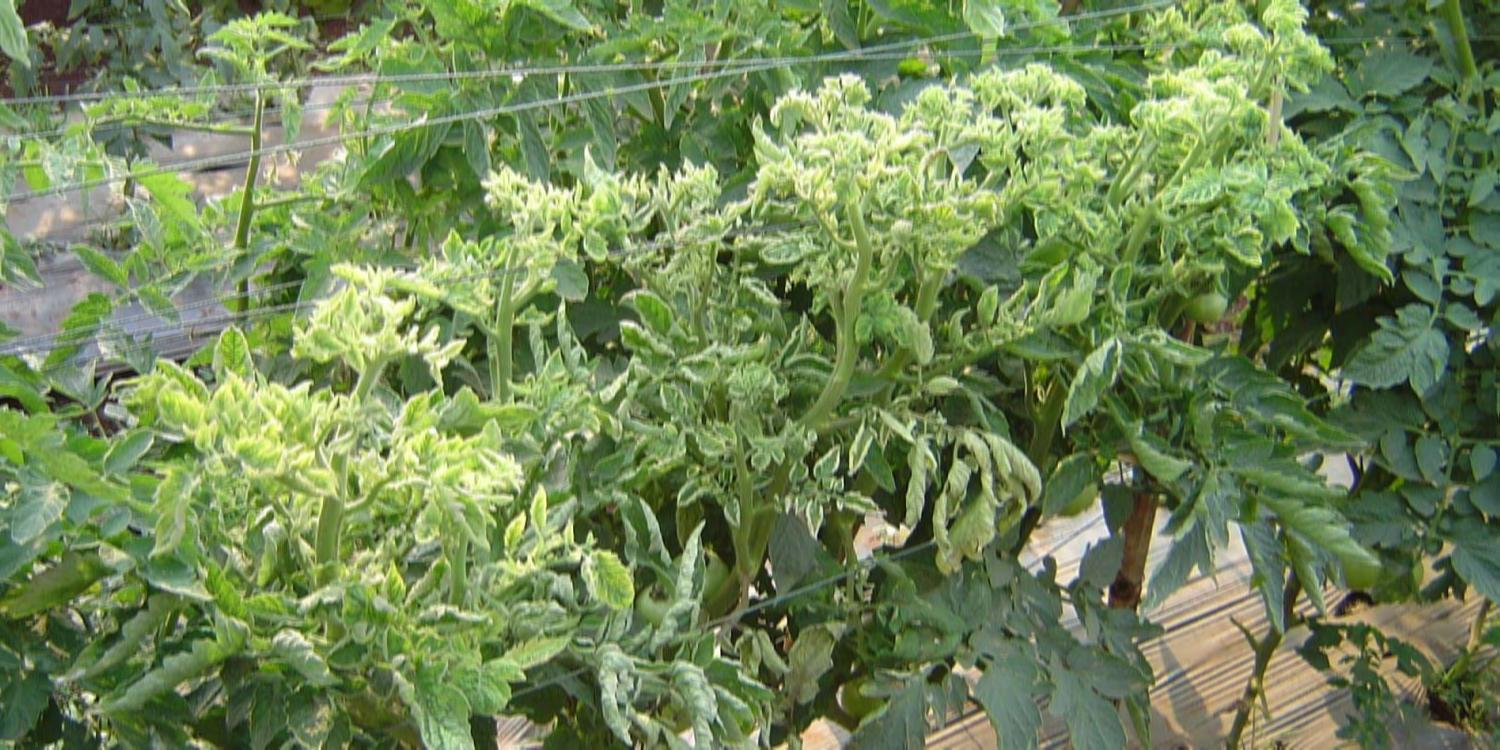Tomato leaf yellow virus: (390, 660, 483, 750), (846, 280, 943, 360), (1060, 339, 1126, 431), (584, 545, 638, 606), (446, 441, 490, 508), (628, 292, 684, 343), (166, 379, 212, 438), (1199, 231, 1275, 266), (239, 386, 272, 465), (814, 443, 854, 508), (674, 353, 732, 387), (386, 432, 421, 482), (687, 427, 732, 464), (677, 479, 711, 510), (725, 481, 740, 546), (751, 445, 773, 477), (785, 458, 804, 494), (315, 405, 337, 432)
